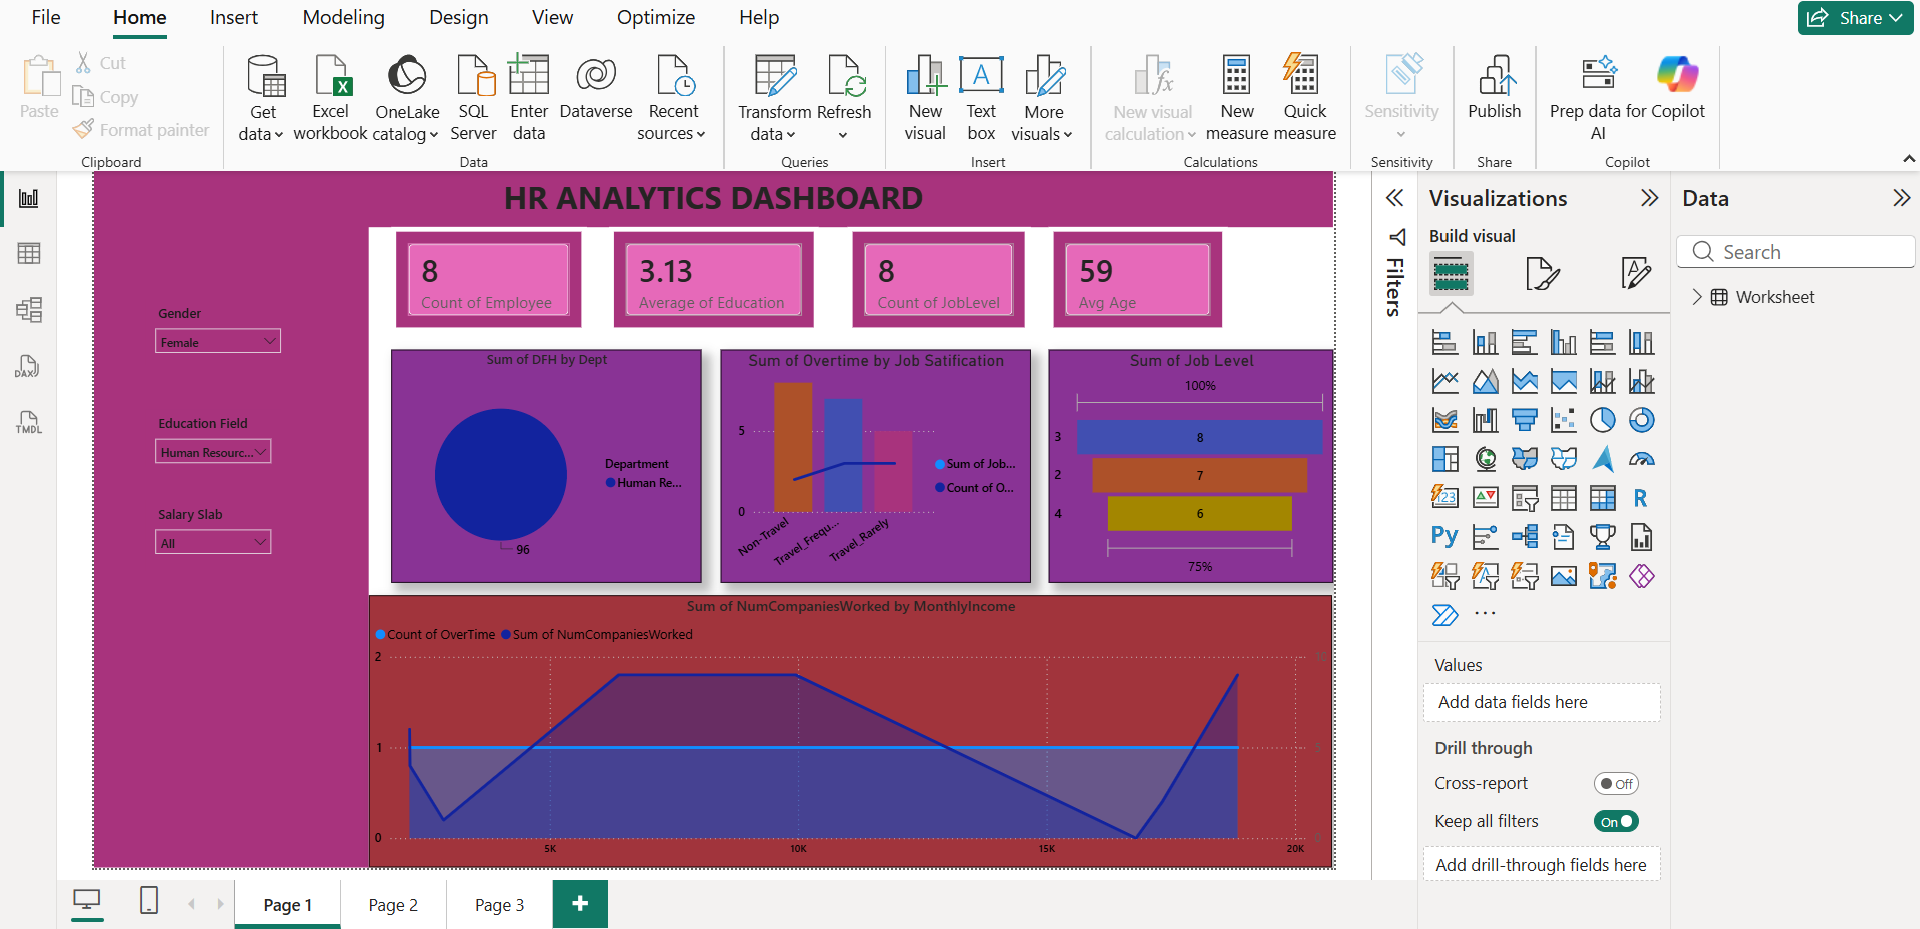

The page's visual inventory and layout, read from the dashboard file:
{"tool":"powerbi","page":{"name":"Page 1","canvas":[1280,720],"ordinal":0},"visuals":[{"type":"textbox","box":[0,0,1279.4,57.9],"z":0},{"type":"shape","box":[0,57.7,284,661.7],"z":1000},{"type":"cardVisual","fields":{"Data":["Worksheet.Count of Employee"]},"box":[307.1,57.7,201.8,109.6],"z":2000},{"type":"cardVisual","fields":{"Data":["Avg(Worksheet.Education)"]},"box":[531.9,57.7,216.2,109.6],"z":3000},{"type":"cardVisual","fields":{"Data":["CountNonNull(Worksheet.JobLevel)"]},"box":[778.5,57.7,188.8,109.6],"z":4000},{"type":"cardVisual","fields":{"Data":["Max(Worksheet.Age)"]},"box":[986,57.7,184.5,109.6],"z":5000},{"type":"pieChart","title":"Sum of DFH by Dept","fields":{"Y":["Sum(Worksheet.DistanceFromHome)"],"Category":["Worksheet.Department"]},"box":[307.1,184.5,320,240.7],"z":6000},{"type":"lineClusteredColumnComboChart","title":"Sum of Overtime by Job Satification","fields":{"Category":["Worksheet.BusinessTravel"],"Y":["Sum(Worksheet.JobSatisfaction)"],"Y2":["CountNonNull(Worksheet.OverTime)"]},"box":[647.3,184.5,320,240.7],"z":7000},{"type":"funnel","title":"Sum of Job Level","fields":{"Y":["Sum(Worksheet.JobLevel)"],"Category":["Worksheet.JobInvolvement"]},"box":[986,184.5,294.1,240.7],"z":8000},{"type":"areaChart","title":" Sum of NumCompaniesWorked by MonthlyIncome","fields":{"Y":["CountNonNull(Worksheet.OverTime)"],"Category":["Worksheet.MonthlyIncome"],"Y2":["Sum(Worksheet.NumCompaniesWorked)"]},"box":[284,438.2,994.7,281.1],"z":9000},{"type":"slicer","fields":{"Values":["Worksheet.EducationField"]},"box":[53.3,246.5,139.8,59.1],"z":10000},{"type":"slicer","fields":{"Values":["Worksheet.Gender"]},"box":[53.3,132.6,149.9,67.8],"z":11000},{"type":"slicer","fields":{"Values":["Worksheet.SalarySlab"]},"box":[53.3,340.2,139.8,72.1],"z":12000}]}

Visuals, with their boxes on the page's 1280x720 design canvas (x1, y1, x2, y2). These are canvas units, not pixel positions in the 1920x929 screenshot, which may show the page scaled, cropped or inside an application window:
textbox: (0, 0, 1279, 58)
shape: (0, 58, 284, 719)
cardVisual - Worksheet.Count of Employee: (307, 58, 509, 167)
cardVisual - Avg(Worksheet.Education): (532, 58, 748, 167)
cardVisual - CountNonNull(Worksheet.JobLevel): (778, 58, 967, 167)
cardVisual - Max(Worksheet.Age): (986, 58, 1170, 167)
"Sum of DFH by Dept" pieChart: (307, 184, 627, 425)
"Sum of Overtime by Job Satification" lineClusteredColumnComboChart: (647, 184, 967, 425)
"Sum of Job Level" funnel: (986, 184, 1280, 425)
" Sum of NumCompaniesWorked by MonthlyIncome" areaChart: (284, 438, 1279, 719)
slicer - Worksheet.EducationField: (53, 246, 193, 306)
slicer - Worksheet.Gender: (53, 133, 203, 200)
slicer - Worksheet.SalarySlab: (53, 340, 193, 412)
